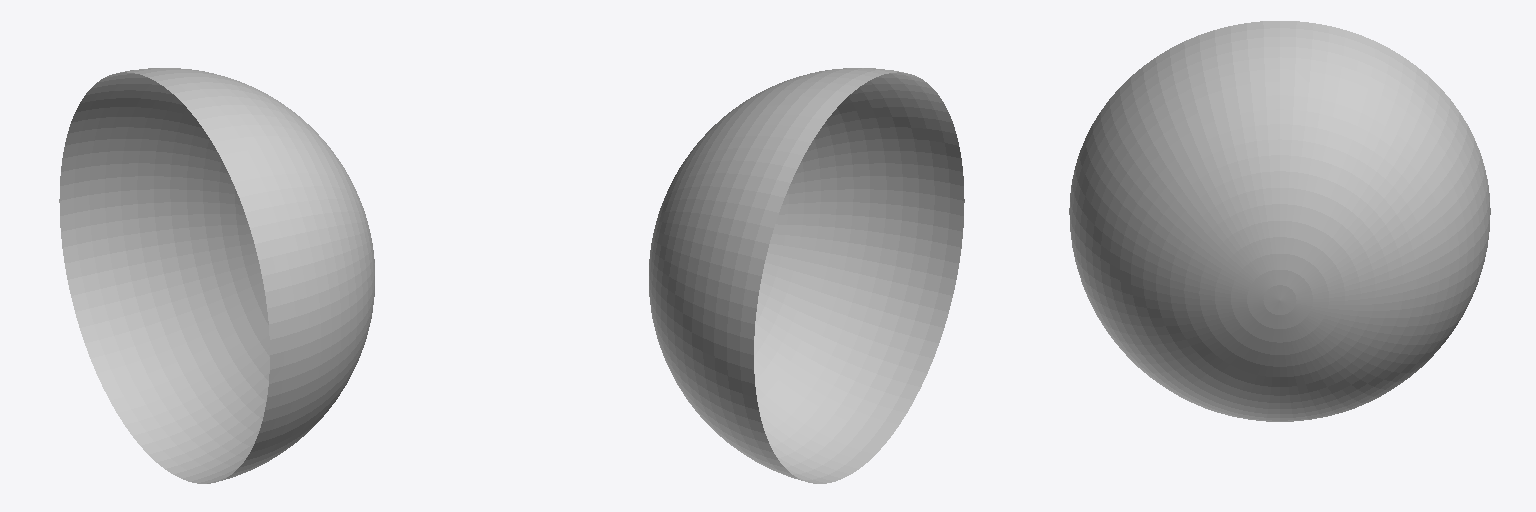
The model's file is dome2.obj.
3 renders of one model, left to right at view 1: azimuth 30°, elevation 25°; view 2: azimuth 150°, elevation 25°; view 3: azimuth 270°, elevation 25°, orthographic.
Parts seen in each view (by area): view 1: Sphere; view 2: Sphere; view 3: Sphere.
Boxes of the visible parts, x1,y1,x2,y2 form: Sphere: [59, 68, 374, 483]; Sphere: [649, 68, 964, 483]; Sphere: [1069, 21, 1490, 421].
Bounding box in the file's own units: 0.5 × 1 × 1.